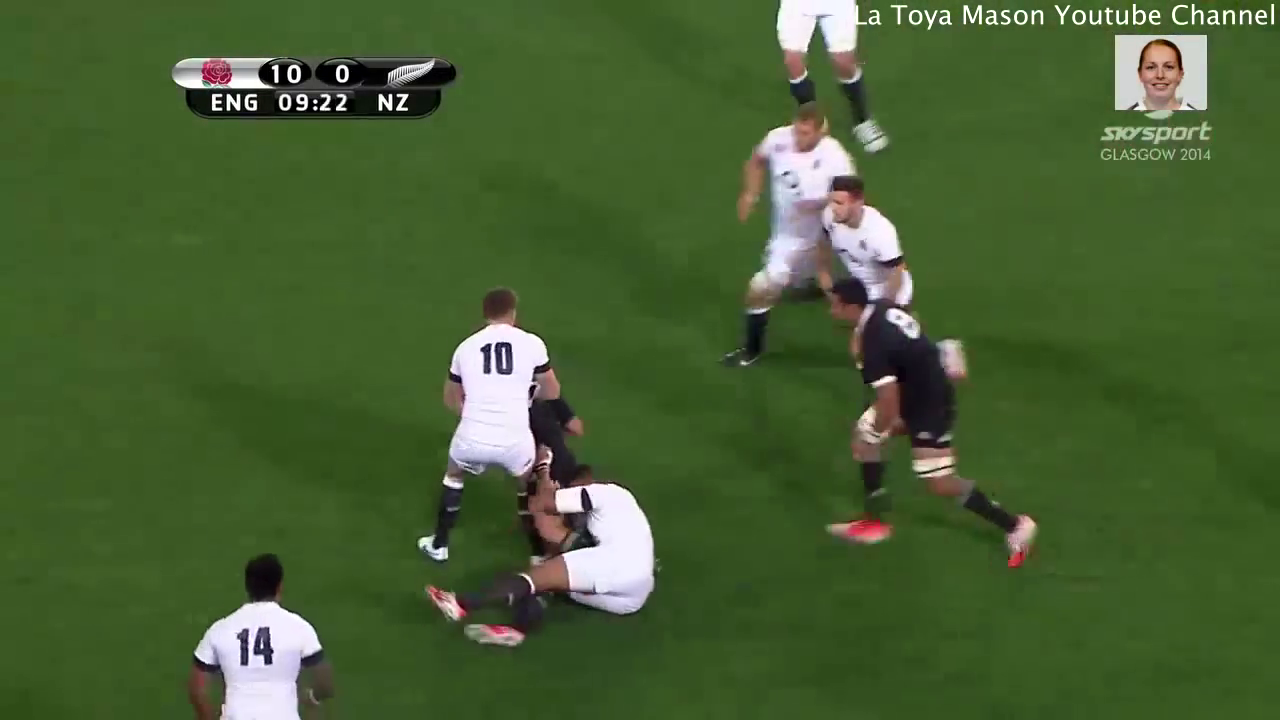player: (807, 272, 1057, 579), (425, 458, 660, 648), (413, 284, 558, 564), (720, 102, 855, 378), (181, 548, 345, 720), (761, 1, 897, 156), (808, 179, 935, 326)
